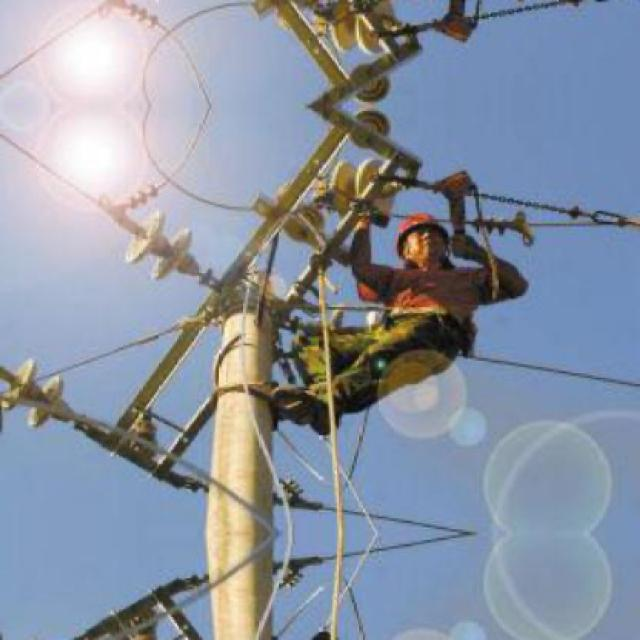con casco: (379, 188, 497, 286)
